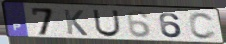6: (126, 10, 154, 40), (158, 12, 184, 39)
7: (30, 7, 55, 37)
C: (188, 12, 219, 41)
K: (62, 8, 90, 37)
U: (91, 8, 122, 38)
